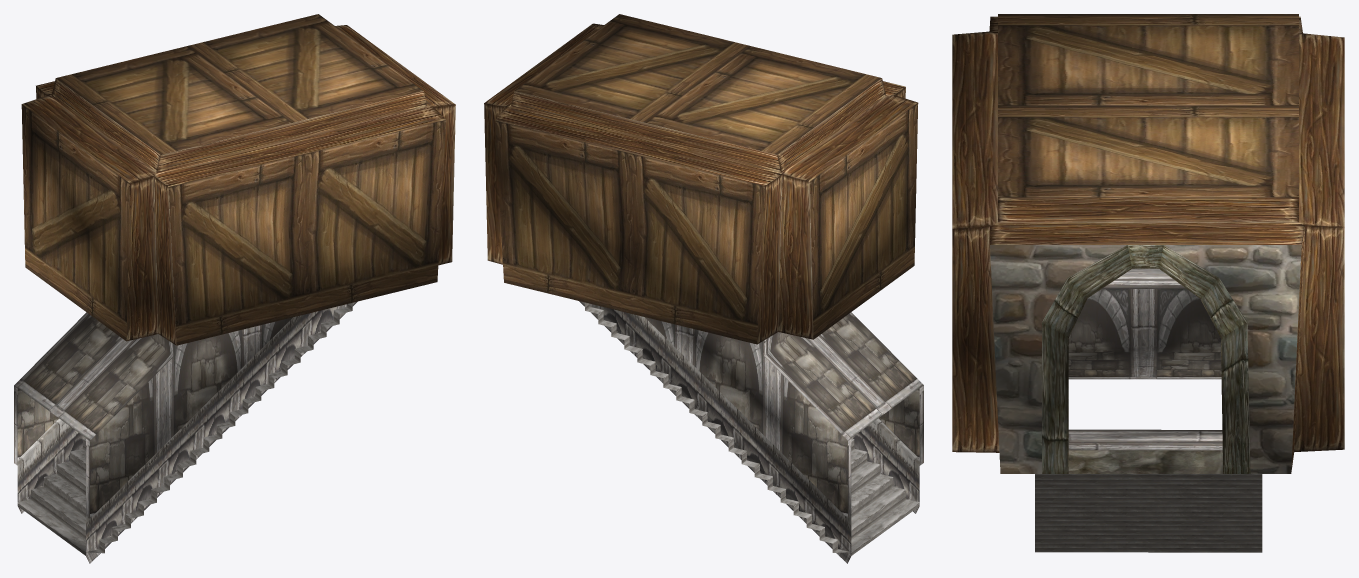
Rendered from stormwind_155.fbx.
3 views of the same model, side by side, from view 1: azimuth 30°, elevation 25°; view 2: azimuth 150°, elevation 25°; view 3: azimuth 270°, elevation 25° (orthographic). The views are drawn at different scales.
Parts seen in each view (by area): view 1: stormwind_155_56, stormwind_155_53, stormwind_155_152, stormwind_155_154, stormwind_155_158; view 2: stormwind_155_56, stormwind_155_53, stormwind_155_152, stormwind_155_154, stormwind_155_158; view 3: stormwind_155_56, stormwind_155_53, stormwind_155_38, stormwind_155_158, stormwind_155_152, stormwind_155_58, stormwind_155_57.
Part boxes in pixels (x1,y1,x2,y2): stormwind_155_56: (21,14,446,345); stormwind_155_53: (22,25,455,345); stormwind_155_152: (14,312,292,518); stormwind_155_154: (17,301,357,563); stormwind_155_158: (17,303,352,555); stormwind_155_56: (495,14,918,344); stormwind_155_53: (484,23,917,344); stormwind_155_152: (645,312,923,517); stormwind_155_154: (579,301,919,563); stormwind_155_158: (585,302,919,555); stormwind_155_56: (998,14,1298,197); stormwind_155_53: (952,16,1344,471); stormwind_155_38: (990,245,1301,473); stormwind_155_158: (1035,474,1262,552); stormwind_155_152: (1068,268,1222,450); stormwind_155_58: (1042,245,1250,473); stormwind_155_57: (1068,450,1223,473).
Bounding box in the file's own units: 15 × 16.86 × 10.22.
